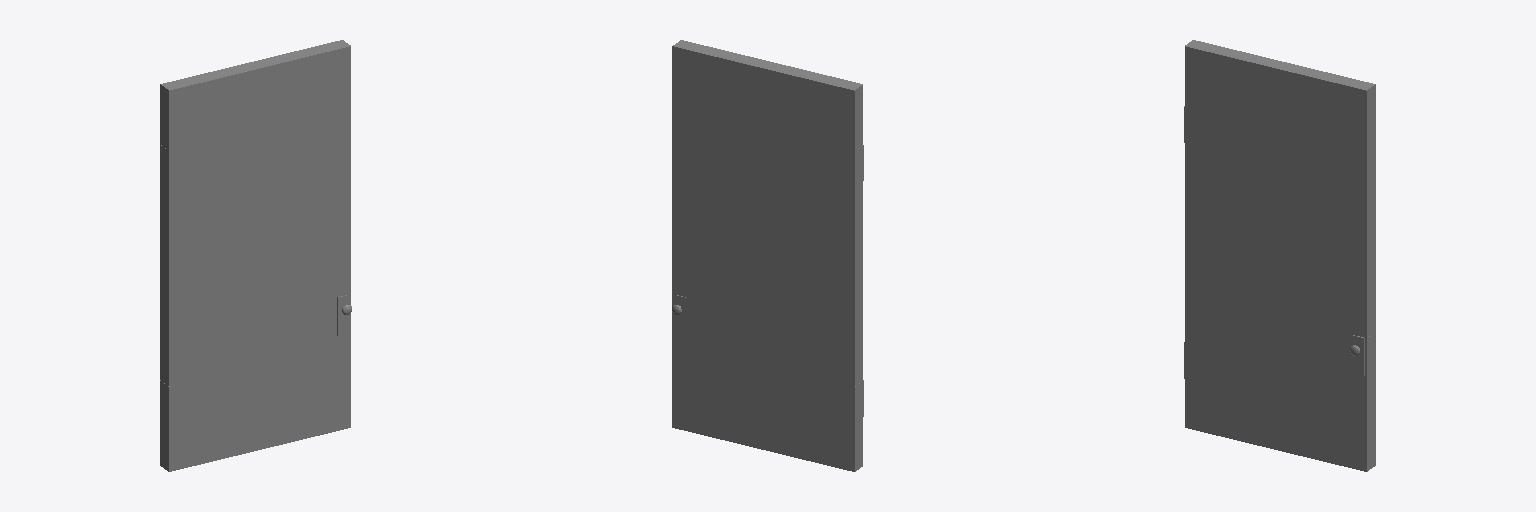
The model's file is door.obj.
The picture shows the model from 3 angles: view 1: azimuth 30°, elevation 25°; view 2: azimuth 150°, elevation 25°; view 3: azimuth 330°, elevation 25°; orthographic projection.
Visible parts, largest first — view 1: DOORS_Static_Court_Wooden_192x384; view 2: DOORS_Static_Court_Wooden_192x384; view 3: DOORS_Static_Court_Wooden_192x384.
Boxes of the visible parts, box(x1,y1,x2,y2) form: DOORS_Static_Court_Wooden_192x384: box(160, 40, 351, 471); DOORS_Static_Court_Wooden_192x384: box(672, 40, 863, 471); DOORS_Static_Court_Wooden_192x384: box(1184, 40, 1375, 471).
Bounding box in the file's own units: 193 × 384 × 33.63.